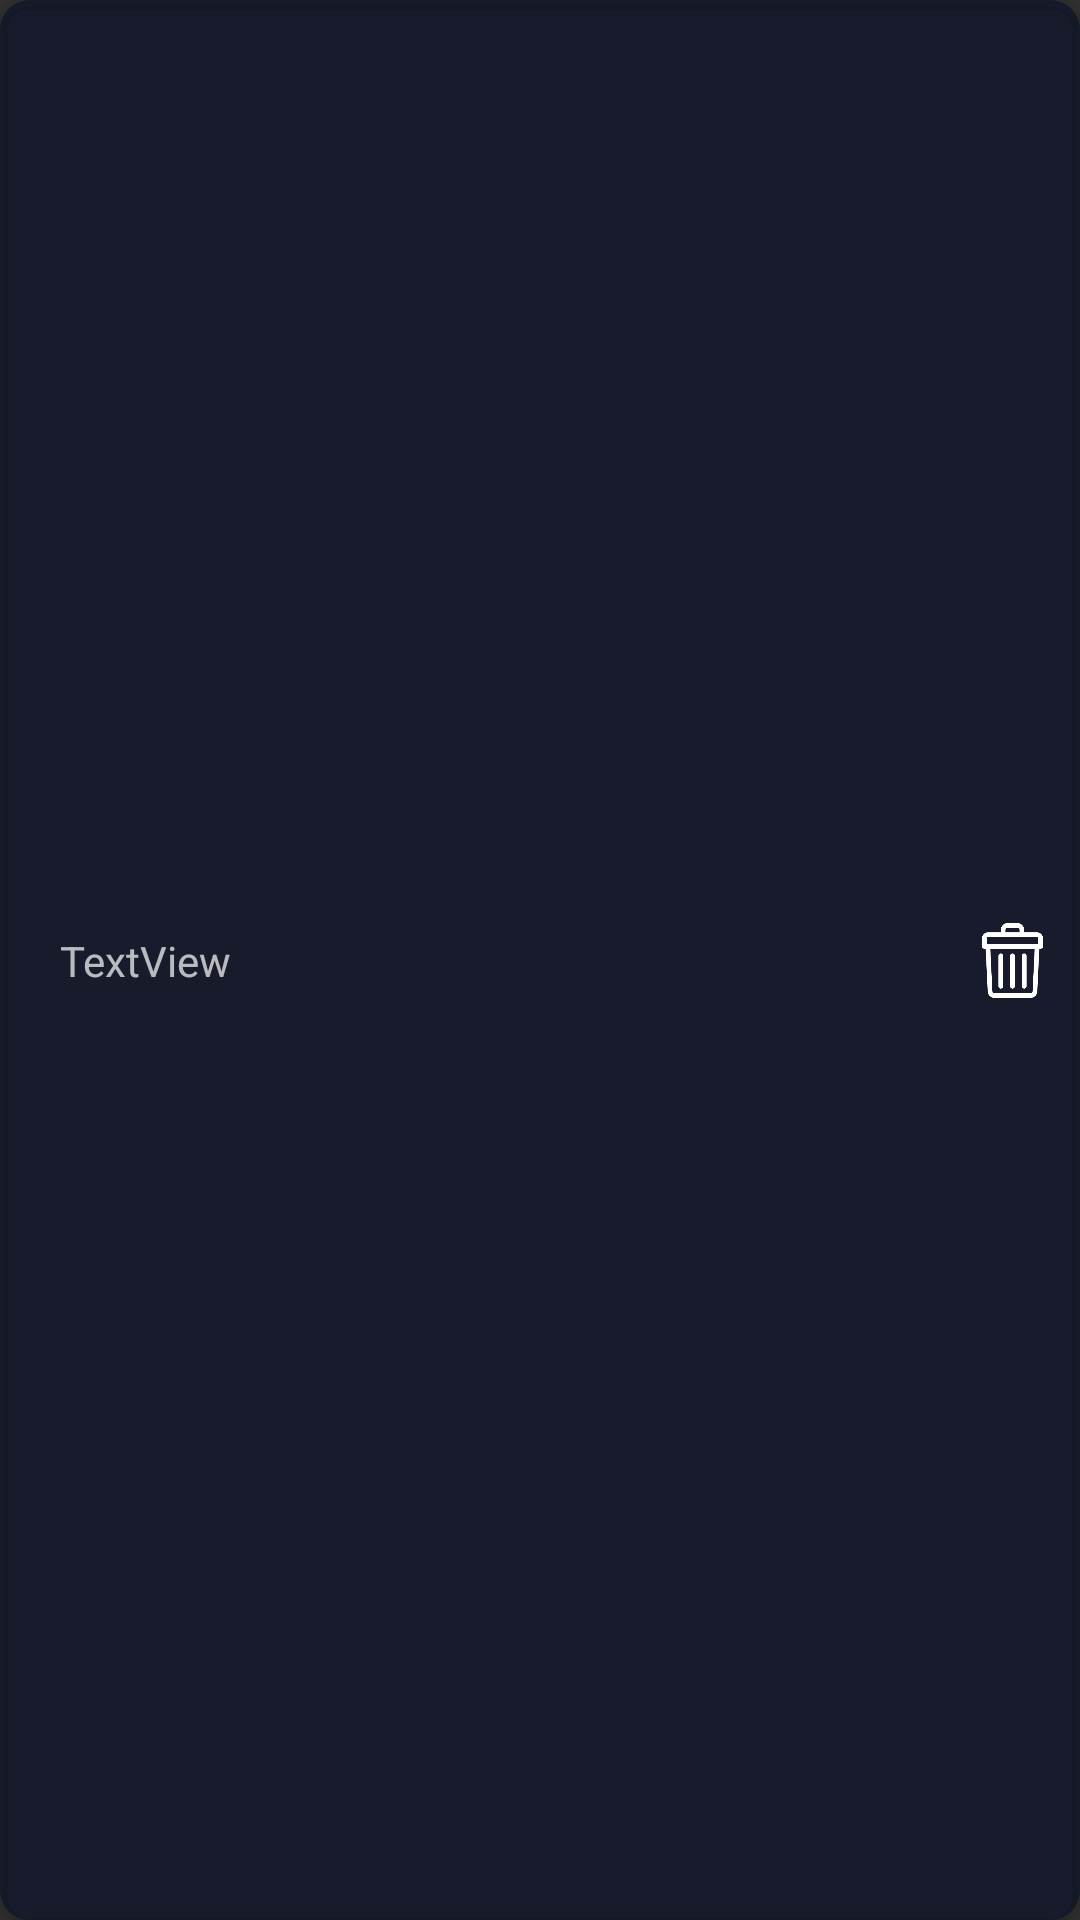

Named icons in this screenshot (1080px×1920px) and their bounding boxes, (x1, y1, x2, y2):
trash: (982, 923, 1043, 998)
